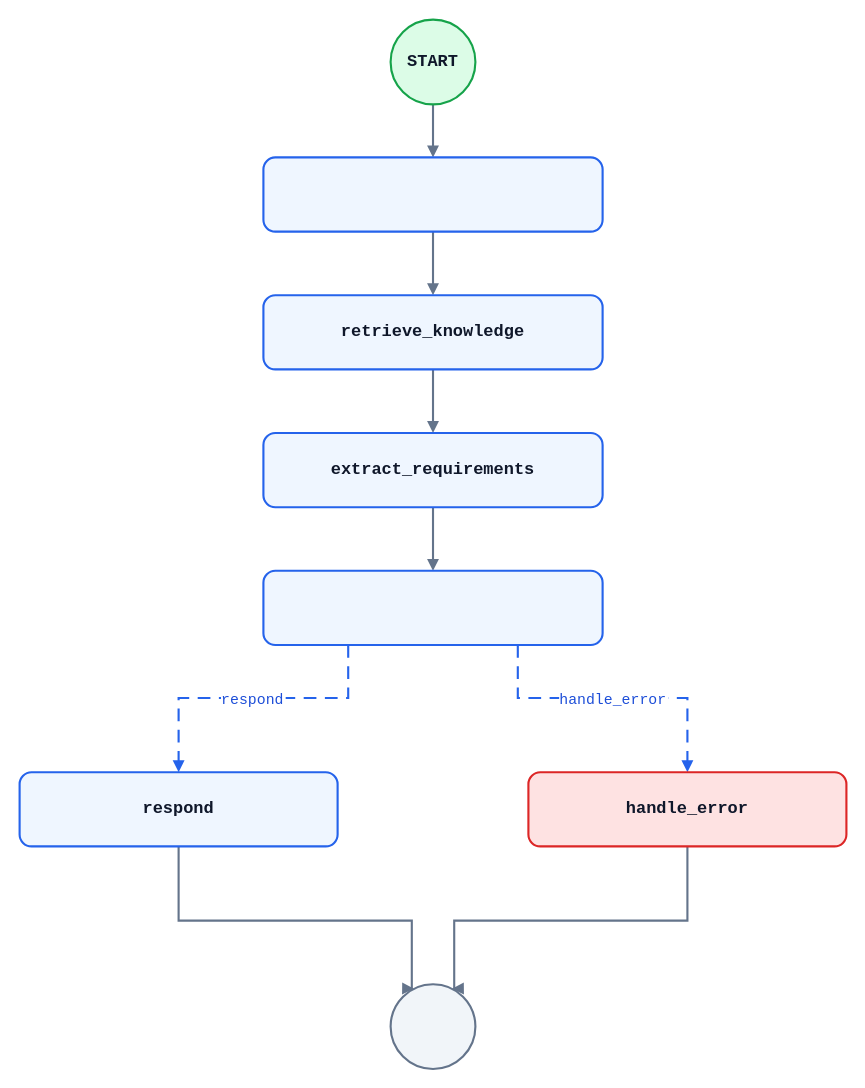
Some shapes in this 865 by 1088 pixel diagram are drawn without their labels. The box of each missing label's shape, as (x1, y1, x2, y2) in pixels:
collect_message: (262, 156, 603, 232)
END: (389, 983, 476, 1070)
validate_profile: (262, 569, 603, 646)
